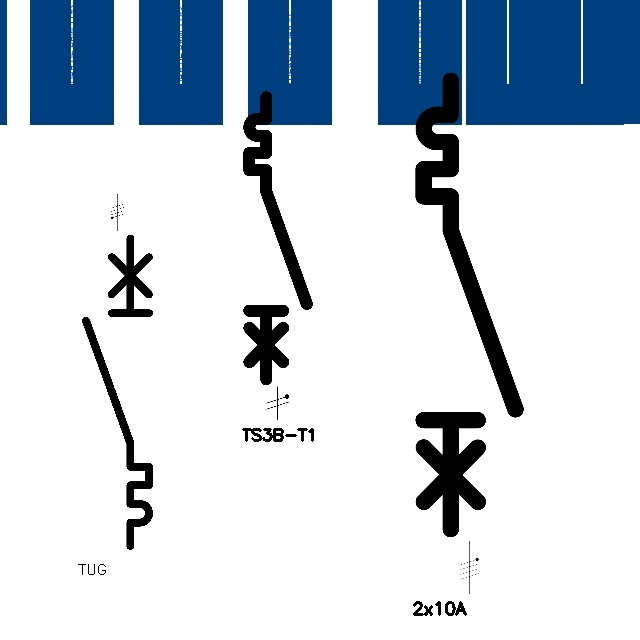interruptor_termomagnetico: (412, 69, 527, 541), (78, 230, 157, 554), (242, 90, 314, 386)
